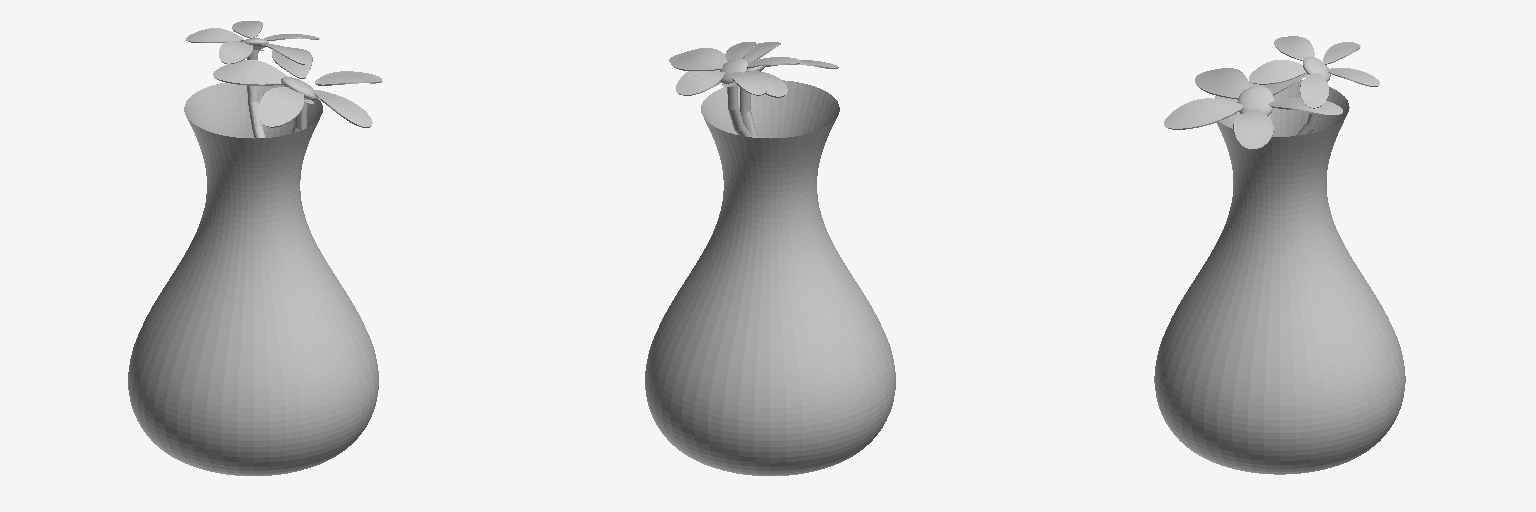
Rendered from flowervase.obj.
3 views of the same model, side by side, from view 1: azimuth 30°, elevation 25°; view 2: azimuth 150°, elevation 25°; view 3: azimuth 270°, elevation 25° (orthographic).
Parts seen in each view (by area): view 1: NurbsPath_NurbsPath.002, Circle.001, Circle_Circle.002, Cube.001, Cube.002; view 2: NurbsPath_NurbsPath.002, Circle_Circle.002, Circle.001, Cube.001, Cube.002; view 3: NurbsPath_NurbsPath.002, Circle.001, Circle_Circle.002, Cube.002, Cube.001.
Part boxes in pixels (bbox=[...]): NurbsPath_NurbsPath.002: bbox=[128, 82, 378, 475]; Circle.001: bbox=[213, 47, 381, 127]; Circle_Circle.002: bbox=[186, 21, 319, 64]; Cube.001: bbox=[241, 38, 268, 138]; Cube.002: bbox=[281, 77, 316, 132]; NurbsPath_NurbsPath.002: bbox=[645, 80, 895, 475]; Circle_Circle.002: bbox=[671, 42, 800, 95]; Circle.001: bbox=[669, 42, 838, 97]; Cube.001: bbox=[720, 58, 752, 137]; Cube.002: bbox=[740, 66, 764, 137]; NurbsPath_NurbsPath.002: bbox=[1154, 80, 1405, 474]; Circle.001: bbox=[1164, 68, 1342, 149]; Circle_Circle.002: bbox=[1249, 36, 1379, 108]; Cube.002: bbox=[1237, 86, 1274, 117]; Cube.001: bbox=[1296, 57, 1330, 135].
Size of the model in its own units: 0.9269 by 1.65 by 0.9065.